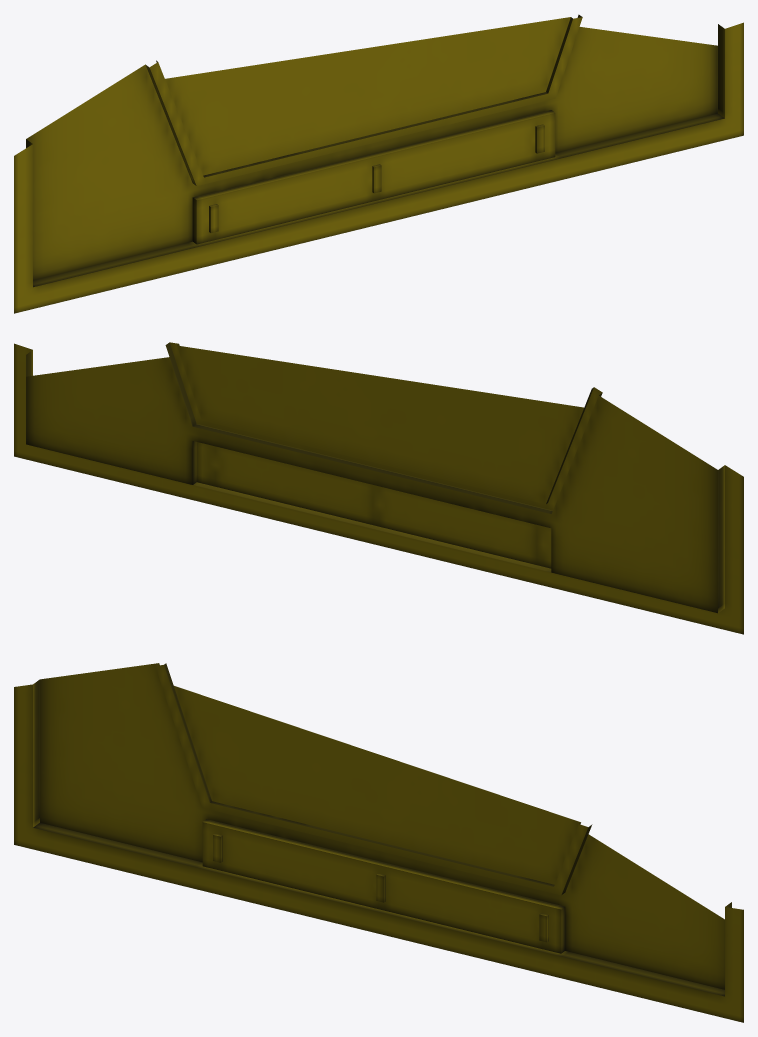
The model's file is sc_finalBoss_slideDoorA_destroyed_C.FBX.
3 views of the same model, one above another, from view 1: azimuth 30°, elevation 25°; view 2: azimuth 150°, elevation 25°; view 3: azimuth 330°, elevation 25° (orthographic).
Visible parts, largest first — view 1: finalBoss_slideDoorA_destroyed_C; view 2: finalBoss_slideDoorA_destroyed_C; view 3: finalBoss_slideDoorA_destroyed_C.
Part boxes in pixels (x1=…): finalBoss_slideDoorA_destroyed_C: x1=14, y1=14, x2=743, y2=313; finalBoss_slideDoorA_destroyed_C: x1=14, y1=342, x2=743, y2=634; finalBoss_slideDoorA_destroyed_C: x1=14, y1=663, x2=743, y2=1022.
Bounding box in the file's own units: 24.99 × 6.99 × 0.4074.
